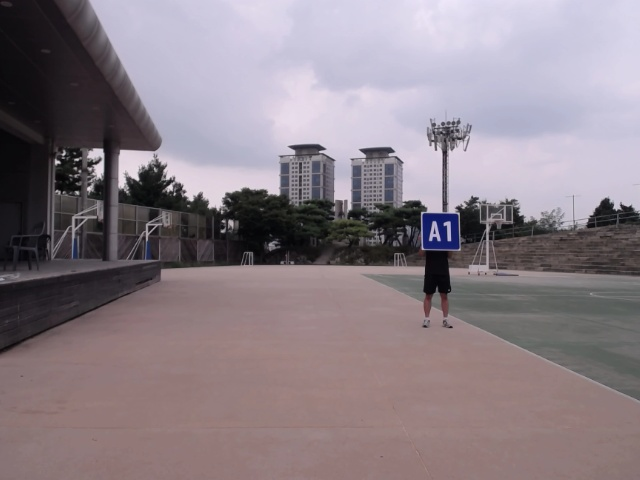delivery_a1: (422, 214, 461, 250)
